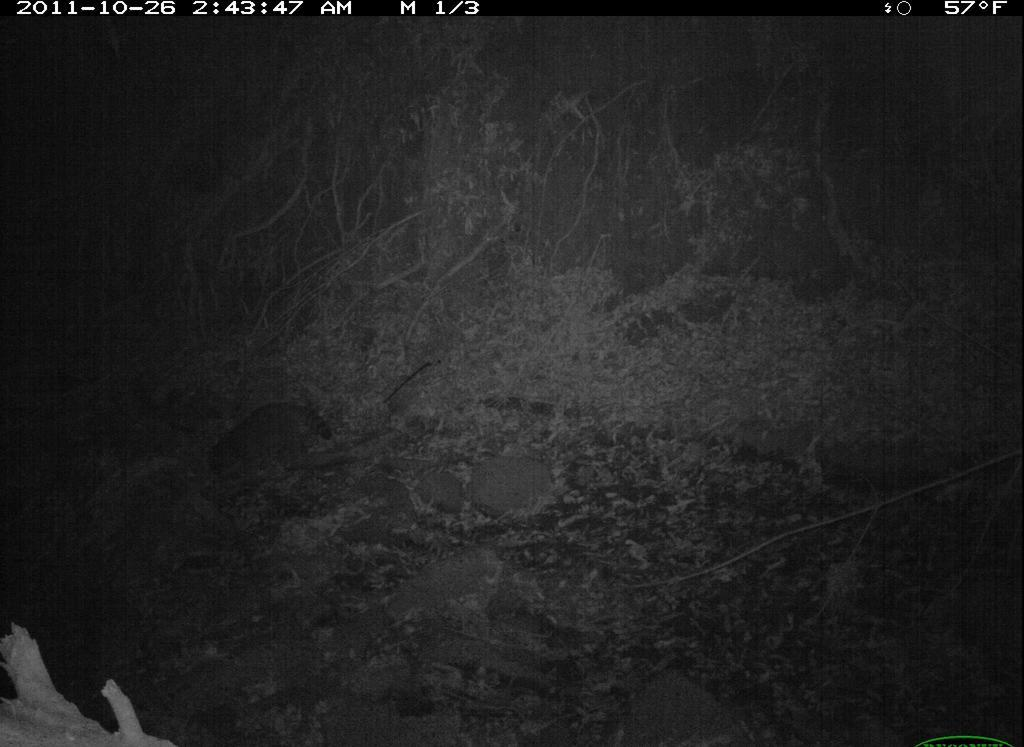squirrel: (205, 394, 335, 476)
